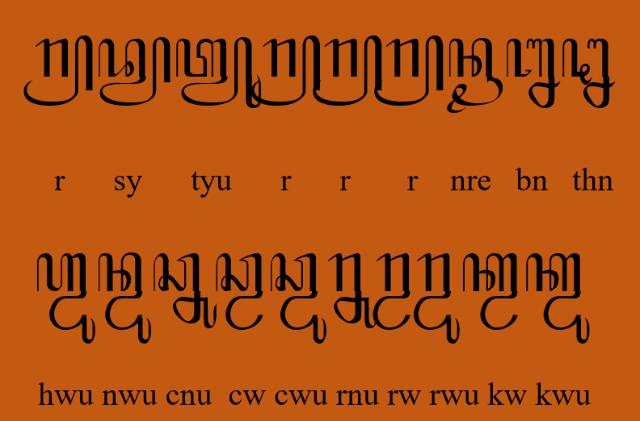-r: (23, 35, 95, 107), (374, 35, 444, 108), (251, 34, 321, 106), (312, 35, 382, 107)
bn: (506, 37, 560, 109)
cnu: (152, 252, 218, 330)
cw: (215, 252, 263, 332)
cwu: (270, 252, 326, 346)
hwu: (36, 253, 96, 347)
kw: (462, 252, 520, 332)
kwu: (525, 253, 591, 345)
nre: (446, 37, 504, 113)
nwu: (97, 252, 151, 346)
rnu: (328, 253, 378, 329)
rw: (373, 254, 411, 330)
rwu: (414, 253, 461, 345)
sy: (98, 36, 172, 107)
thn: (562, 37, 616, 108)
tyu: (176, 36, 262, 109)
